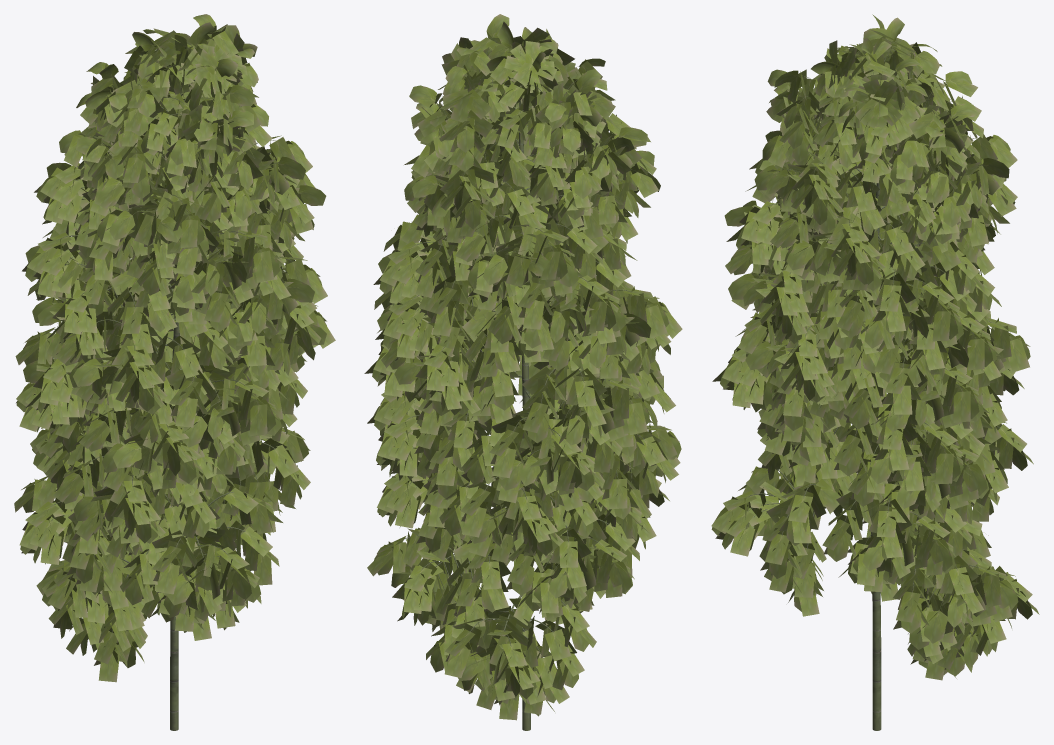
Rendered from MESH_JA14_PhyllostachysNigraHenonis_M_LOD0.fbx.
3 renders of one model, left to right at view 1: azimuth 30°, elevation 25°; view 2: azimuth 150°, elevation 25°; view 3: azimuth 270°, elevation 25°, orthographic.
Parts seen in each view (by area): view 1: MI_LOD0_001, MI_LOD0; view 2: MI_LOD0_001, MI_LOD0; view 3: MI_LOD0_001, MI_LOD0.
Part boxes in pixels (box(x1,y1,x2,y2)): MI_LOD0_001: box(14, 14, 335, 682); MI_LOD0: box(43, 45, 292, 730); MI_LOD0_001: box(364, 14, 682, 720); MI_LOD0: box(392, 36, 656, 730); MI_LOD0_001: box(711, 14, 1039, 680); MI_LOD0: box(746, 47, 1010, 730).
Bounding box in the file's own units: 248 × 600 × 254.
